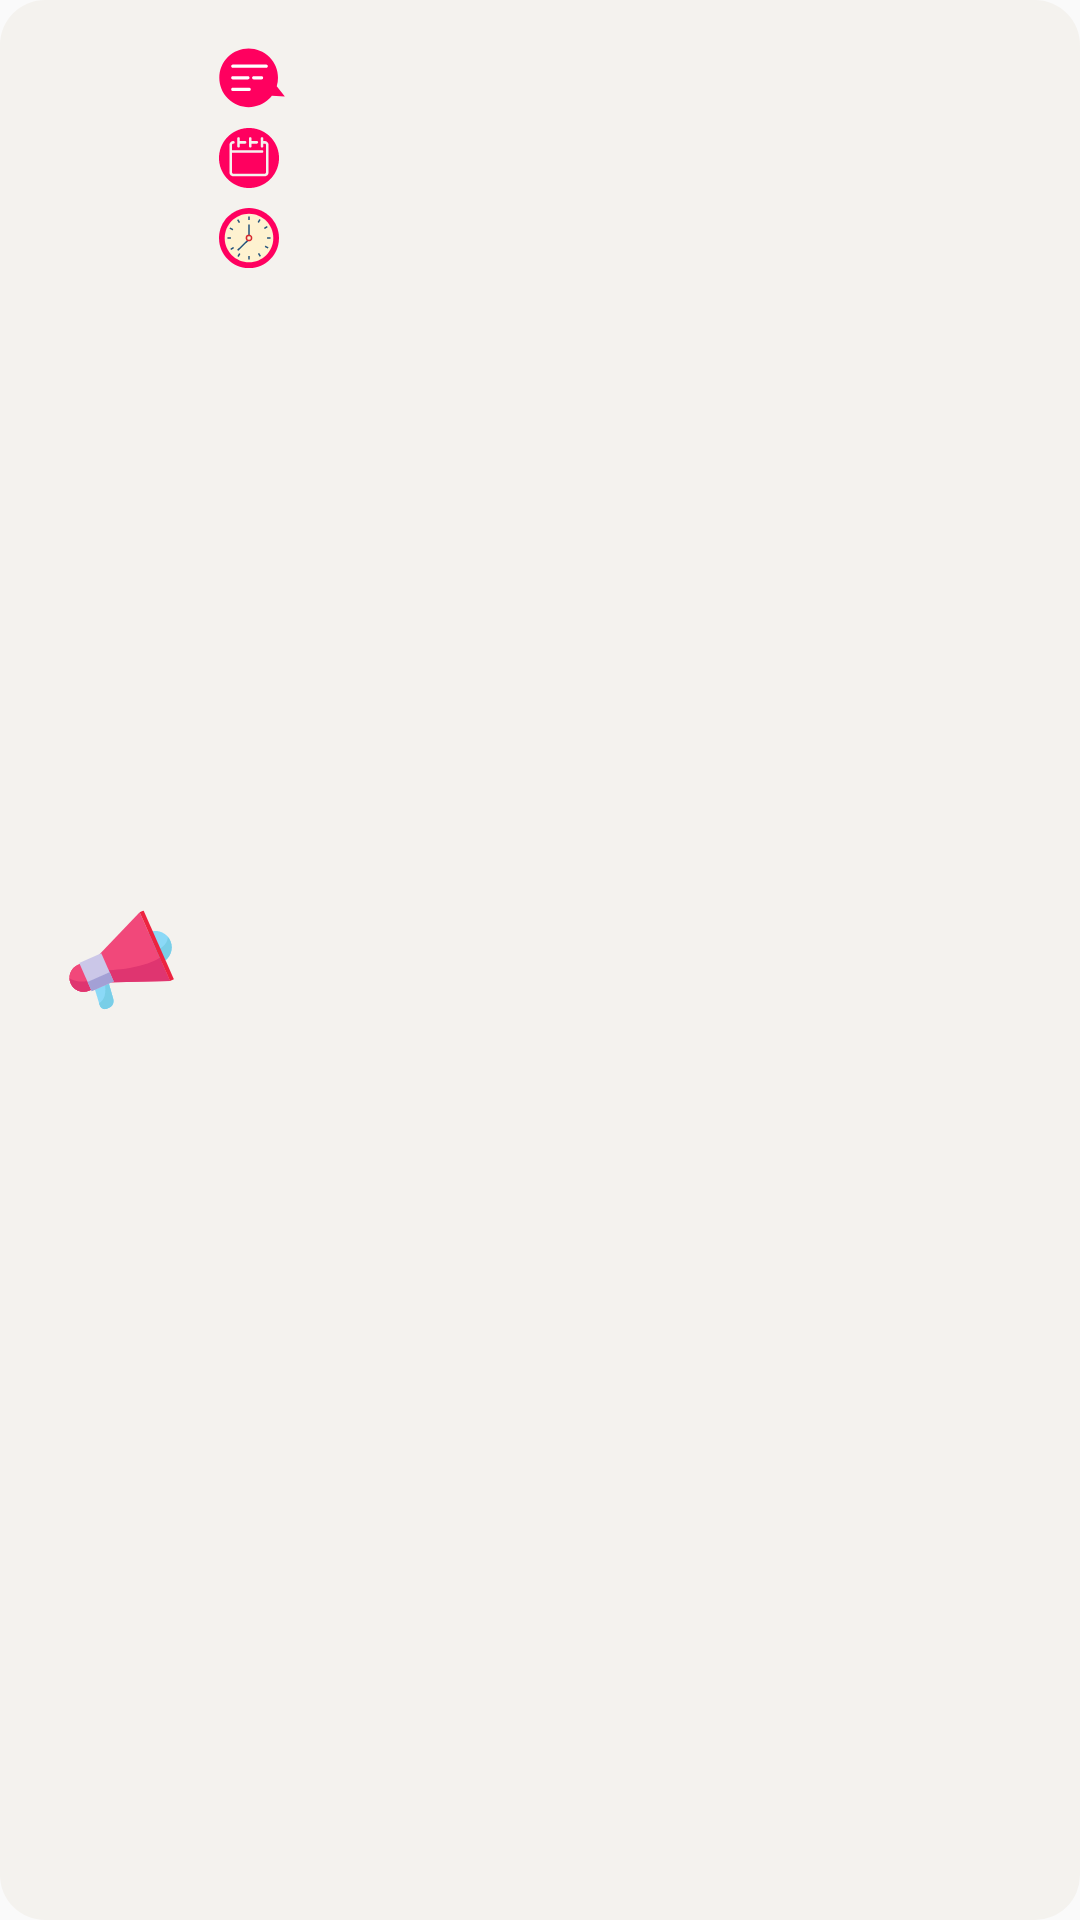

Icons on this 1080×1920 Android screen, each with its box as Rect(x1, y1, x2, y2):
notice: Rect(69, 910, 174, 1009)
